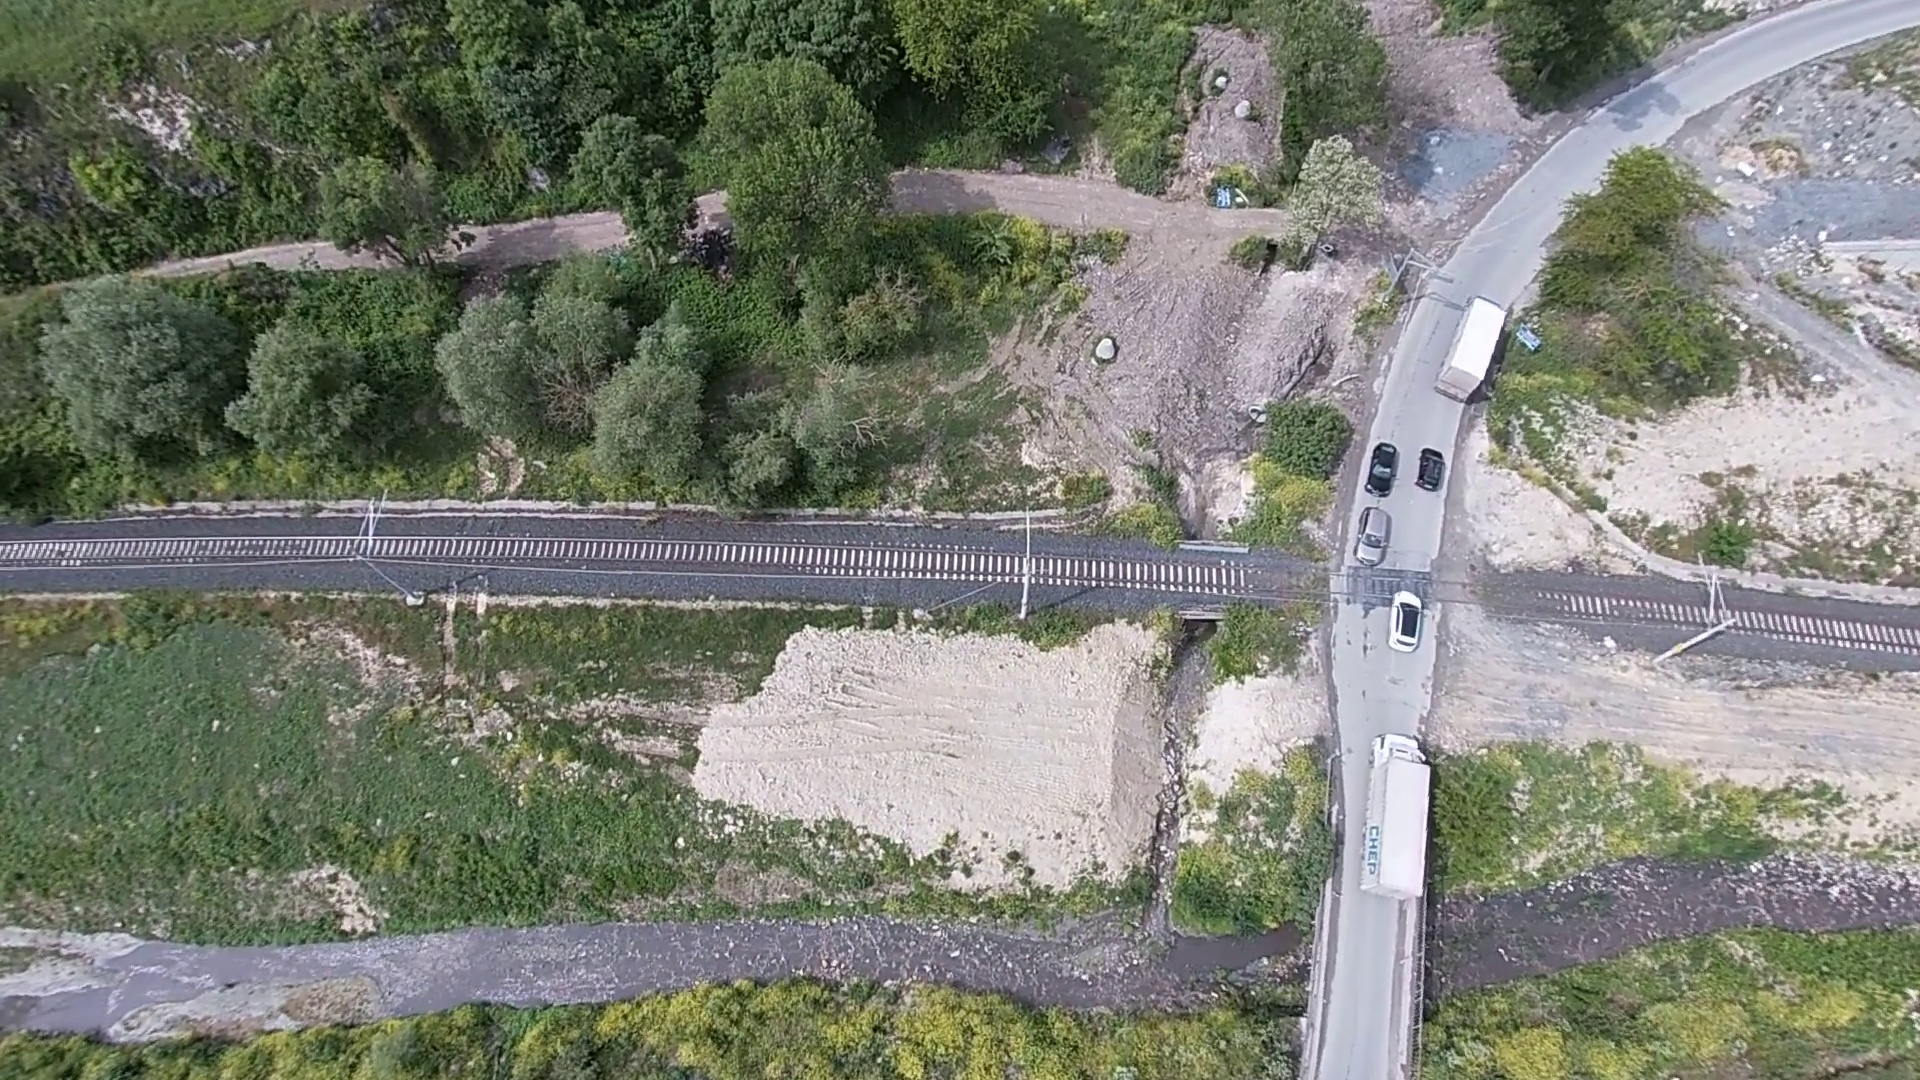arac: (1348, 719, 1447, 910), (1439, 287, 1507, 407), (1379, 582, 1428, 659), (1350, 506, 1396, 578), (1362, 439, 1400, 498), (1416, 443, 1451, 493)
